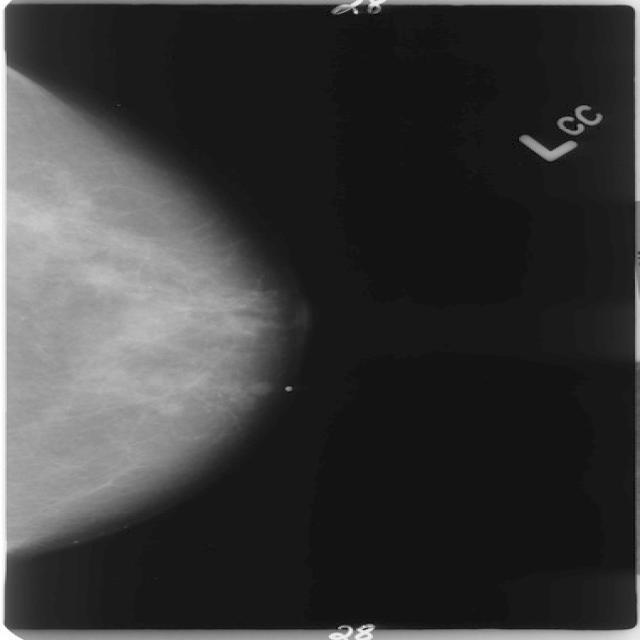tumour: (235, 381, 267, 409)
